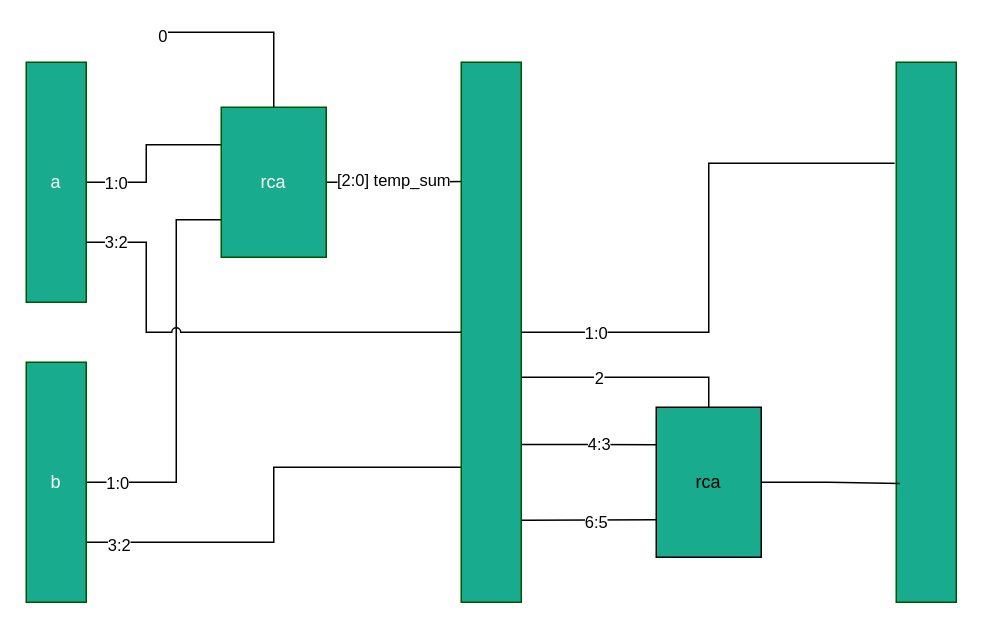
Image size: 983x629. Some labels were removed from this diagram. The centre of each missing label's shape, as x and y in pixels:
"data_out" goes at (925,331).
"pipeline" goes at (490,331).
